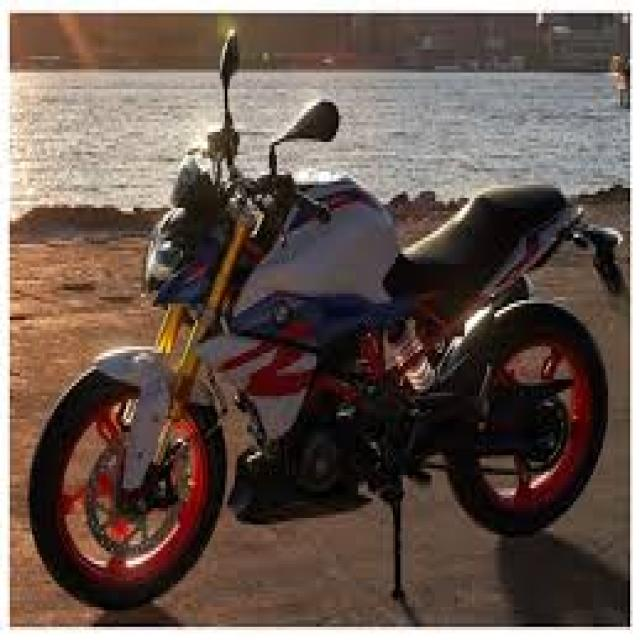bike: (13, 24, 626, 627)
